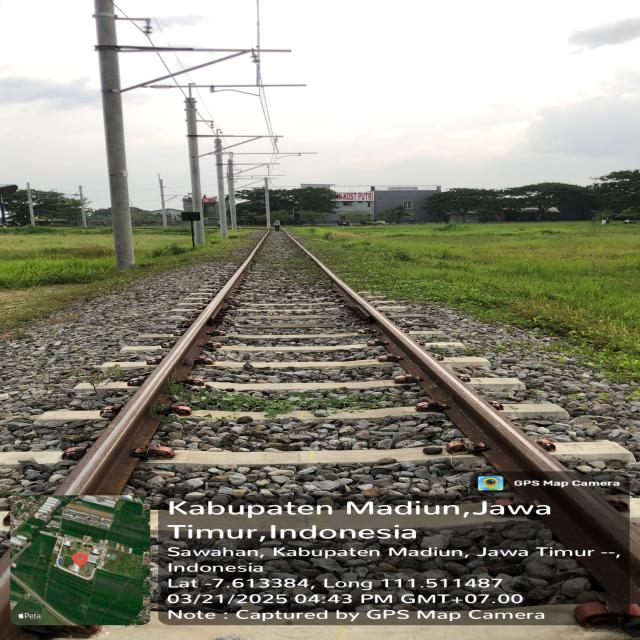rail-detection: (300, 246, 640, 603), (56, 242, 261, 495)
